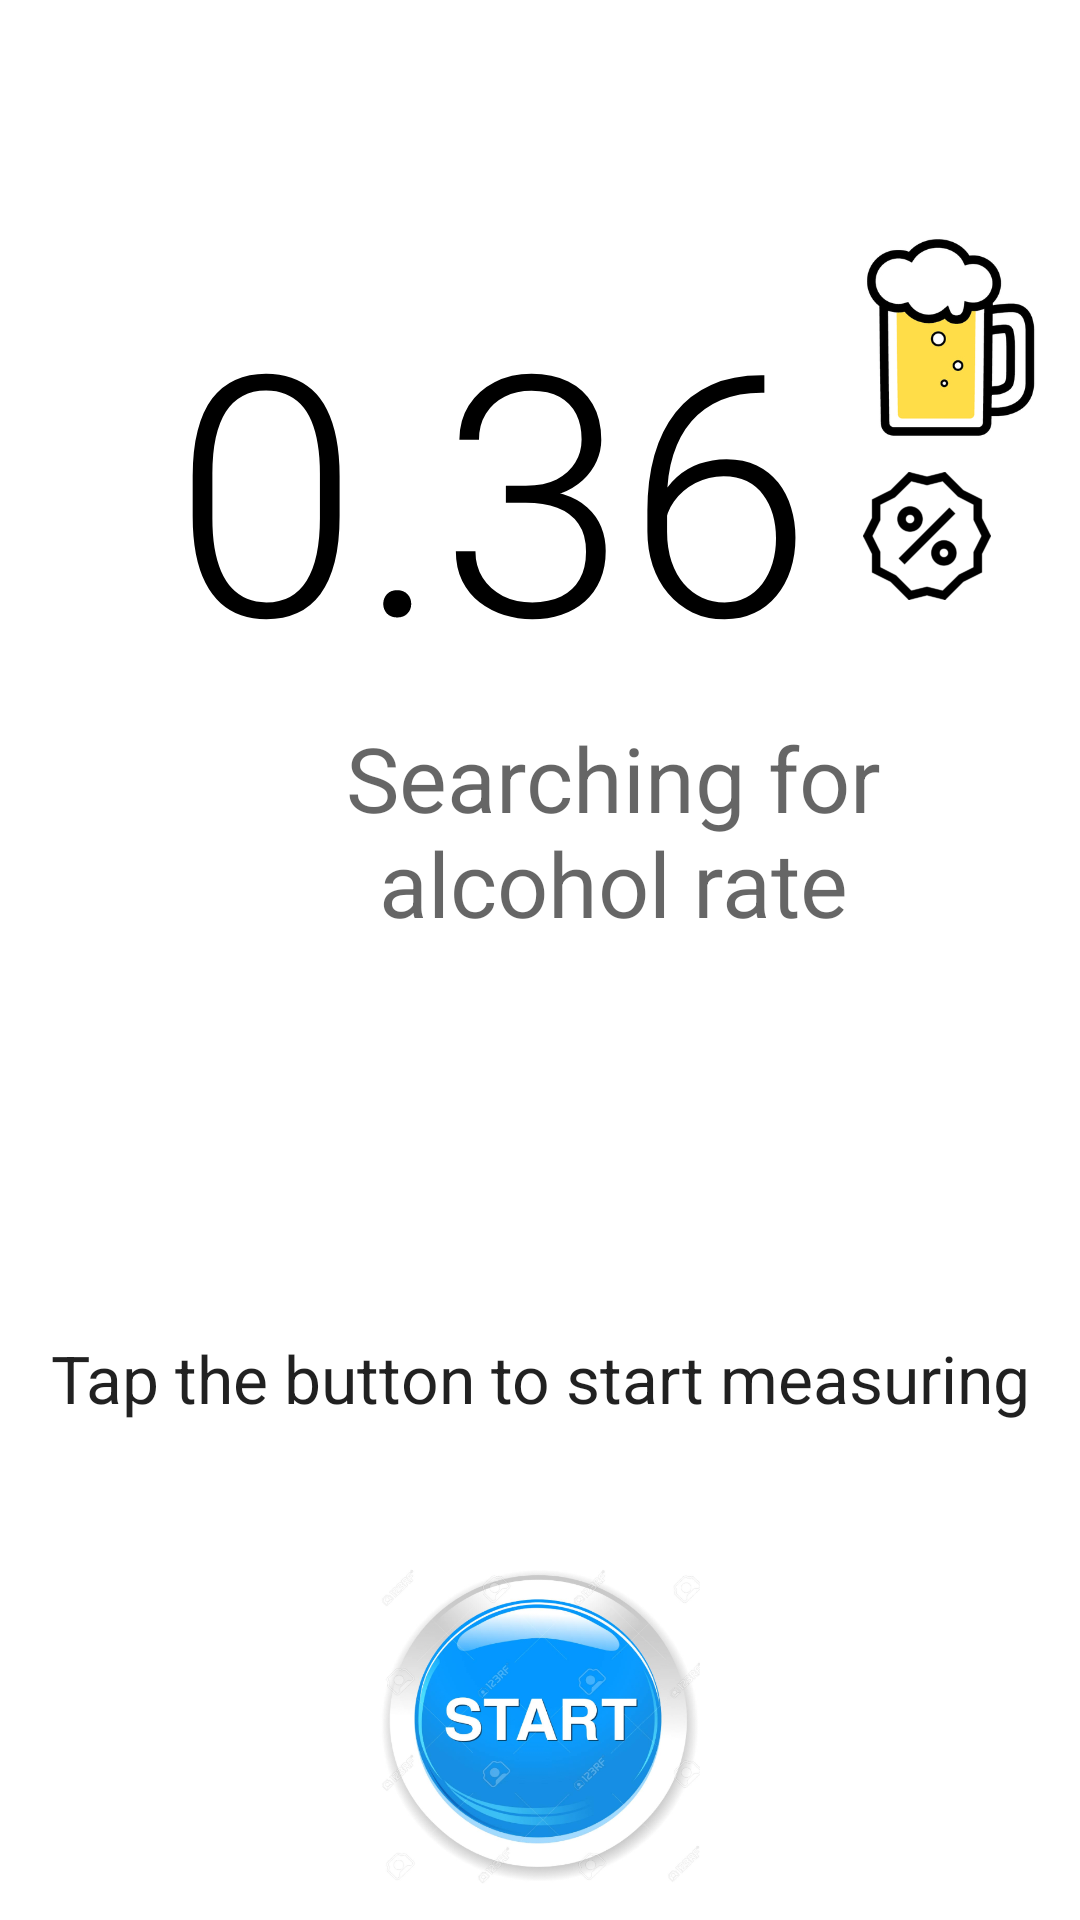

Where to tap for icons on this 1080×1920 app screen, as (x,y):
alcohol: (951,337)
persent: (927,536)
